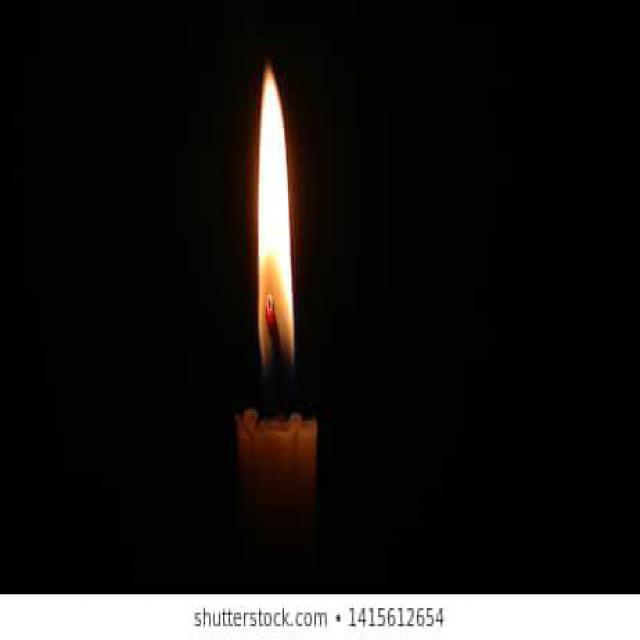Fire: (256, 64, 294, 400)
